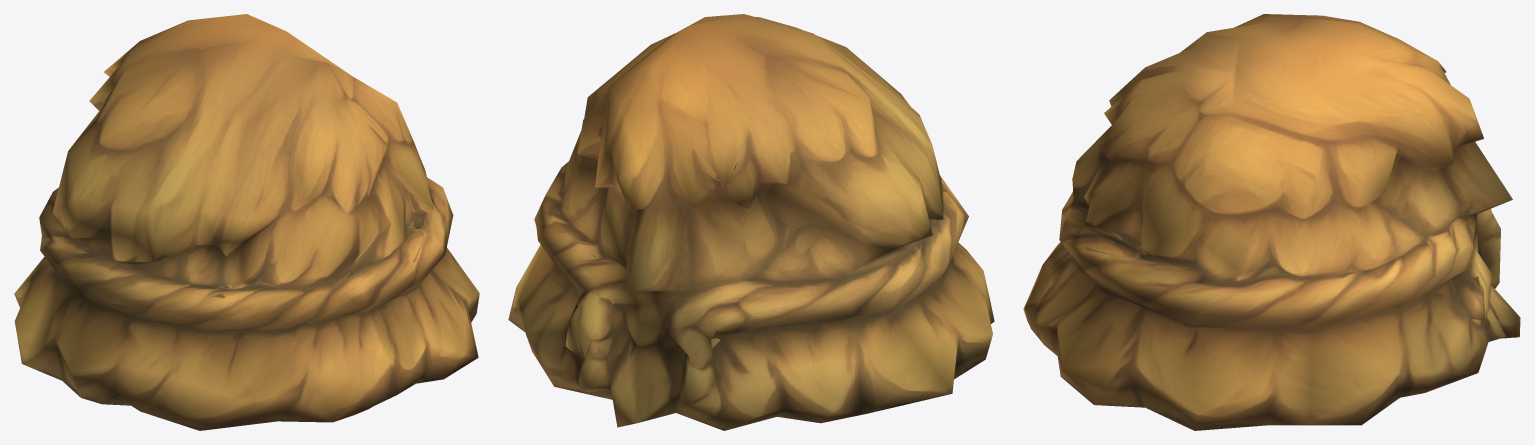
The model's file is haystack.glb.
3 views of the same model, side by side, from view 1: azimuth 30°, elevation 25°; view 2: azimuth 150°, elevation 25°; view 3: azimuth 270°, elevation 25° (orthographic). The views are drawn at different scales.
Visible parts, largest first — view 1: geometry_0.001; view 2: geometry_0.001; view 3: geometry_0.001.
Part boxes in pixels (left/top/right/bottom): geometry_0.001: left=14, top=14, right=479, bottom=430; geometry_0.001: left=508, top=14, right=994, bottom=430; geometry_0.001: left=1023, top=14, right=1520, bottom=430.
Size of the model in its own units: 2 by 1.36 by 1.99.
Materials: 1 (1 with a texture image).
